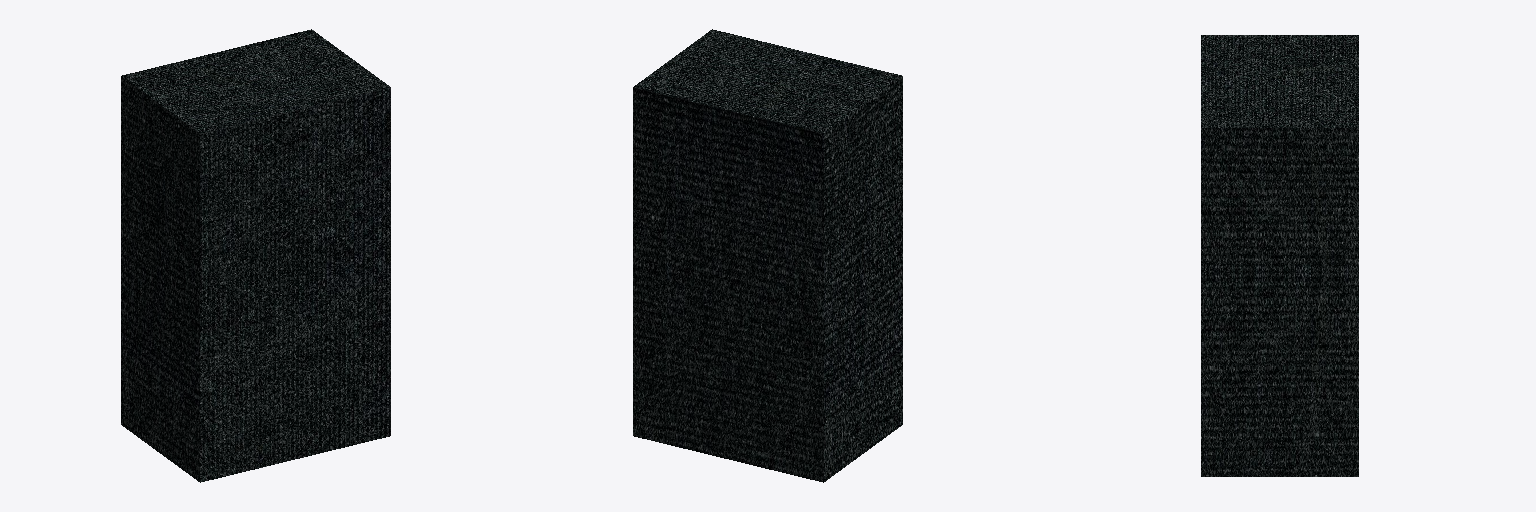
The picture shows the model from 3 angles: view 1: azimuth 30°, elevation 25°; view 2: azimuth 150°, elevation 25°; view 3: azimuth 270°, elevation 25°; orthographic projection.
Visible parts, largest first — view 1: Cube.001; view 2: Cube.001; view 3: Cube.001.
Boxes of the visible parts, x1,y1,x2,y2 form: Cube.001: [121, 29, 390, 482]; Cube.001: [633, 29, 902, 482]; Cube.001: [1201, 35, 1358, 476].
Size of the model in its own units: 1 by 1.75 by 0.7182.
Materials: 1 (1 with a texture image).